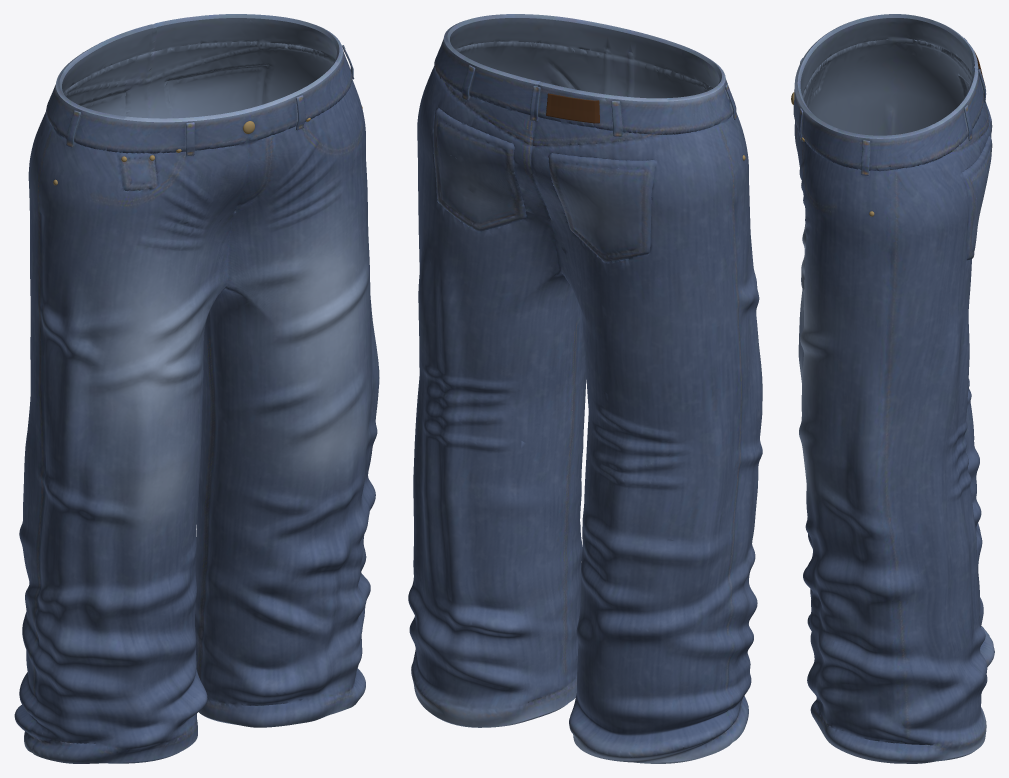
The model's file is 19_vaquero_baggy_pbr.glb.
3 views of the same model, side by side, from view 1: azimuth 30°, elevation 25°; view 2: azimuth 150°, elevation 25°; view 3: azimuth 270°, elevation 25° (orthographic). The views are drawn at different scales.
Parts seen in each view (by area): view 1: Vaquero PBR; view 2: Vaquero PBR, Etiqueta de piel; view 3: Vaquero PBR.
Boxes of the visible parts, x1,y1,x2,y2 form: Vaquero PBR: (14,14,379,763); Vaquero PBR: (408,14,762,763); Etiqueta de piel: (546,93,599,123); Vaquero PBR: (793,14,994,763).
Bounding box in the file's own units: 0.5059 × 0.9769 × 0.2839.
Materials: 3 (1 with a texture image).
